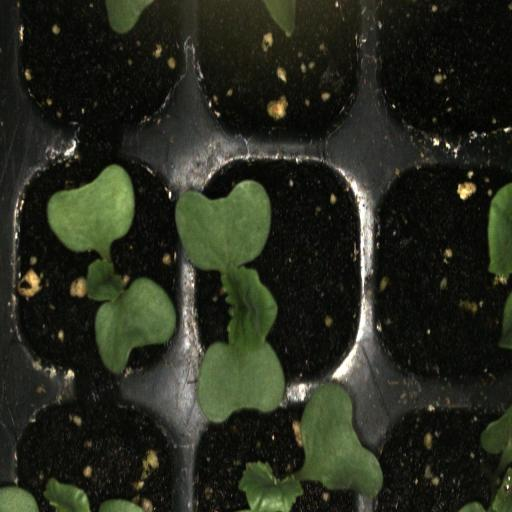Folha: (44, 478, 144, 512), (487, 182, 512, 279)
Germinacao: (8, 141, 186, 389), (186, 142, 368, 376), (184, 377, 368, 512)
